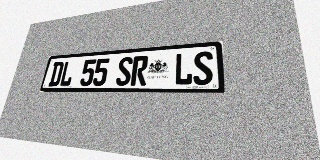5: (92, 58, 110, 86), (79, 59, 97, 86)
D: (48, 61, 64, 86)
L: (174, 52, 193, 85), (59, 61, 76, 86)
R: (130, 55, 149, 86)
S: (193, 51, 213, 85), (115, 56, 133, 86)
